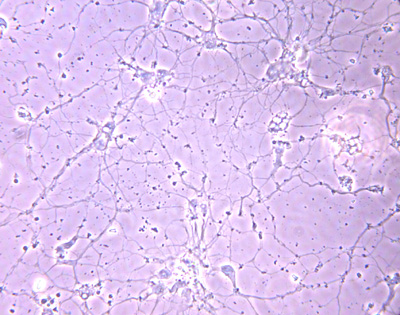neuron: (255, 50, 327, 90)
